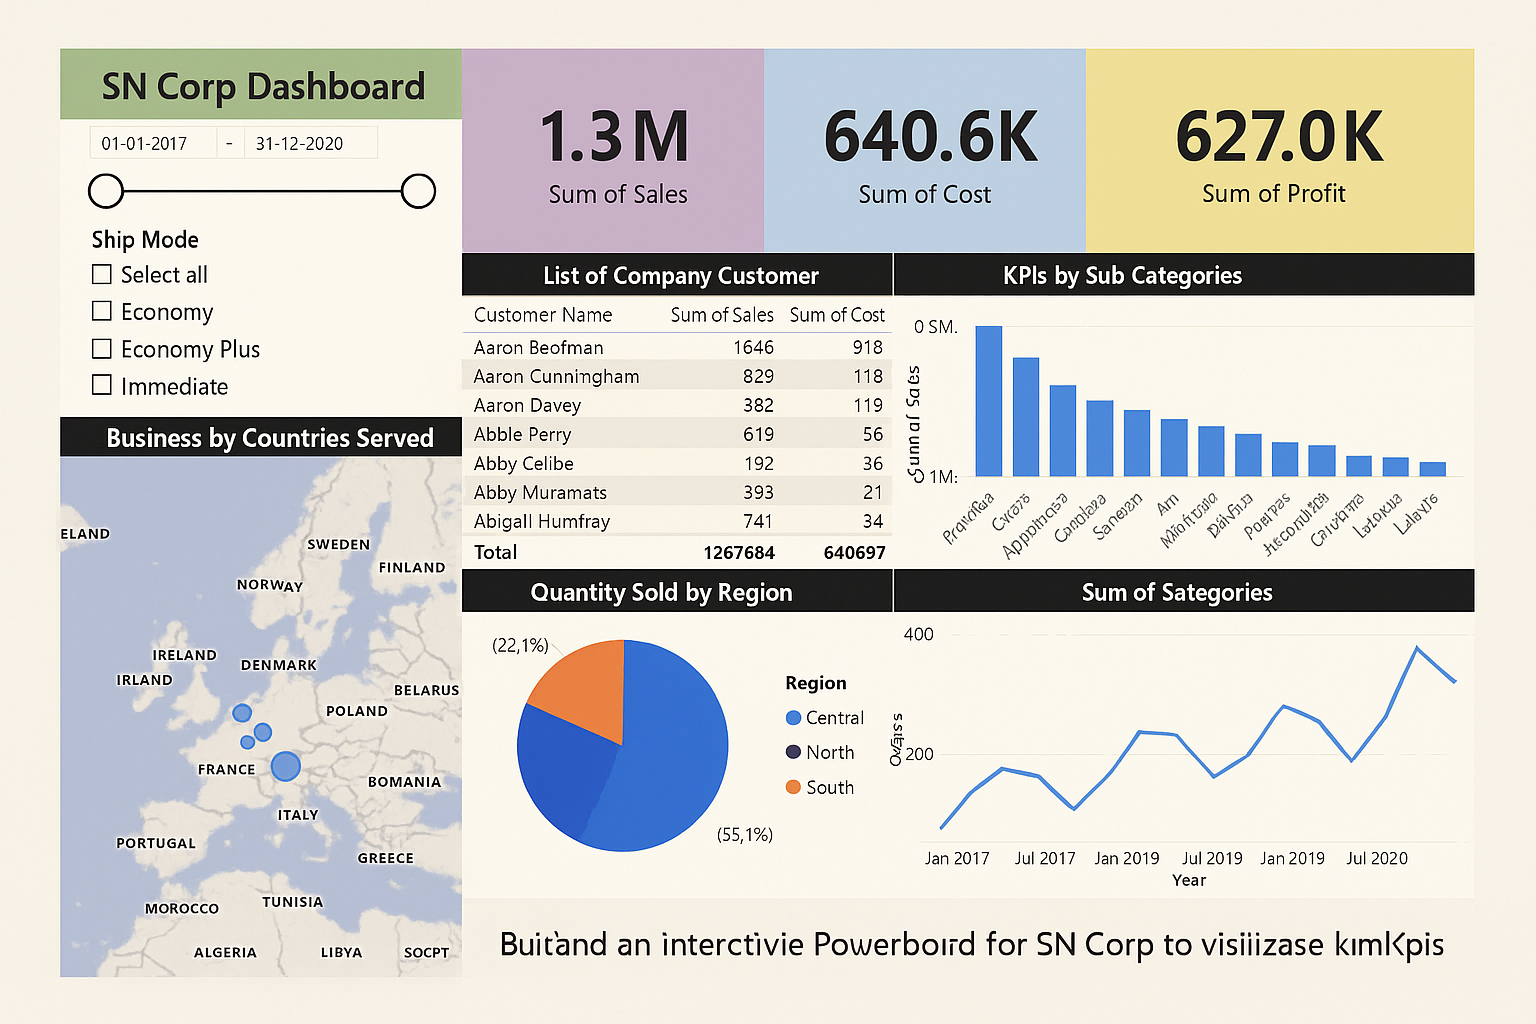

What the dashboard file says about the page in this screenshot:
{"tool":"powerbi","page":{"name":"Page 1","canvas":[1280,720],"ordinal":0},"visuals":[{"type":"card","fields":{"Values":["List of Orders.Sales"]},"box":[309.3,0,330.3,179.7],"z":0},{"type":"card","fields":{"Values":["List of Orders.Cost"]},"box":[639.6,0,315.7,179.7],"z":1000},{"type":"card","fields":{"Values":["List of Orders.Profit"]},"box":[955.3,0,325.5,179.7],"z":2000},{"type":"tableEx","title":"List of Company Customer","fields":{"Values":["List of Orders.Customer Name","List of Orders.Sales","List of Orders.Cost","List of Orders.Profit"]},"box":[309.3,179.7,346.5,273.6],"z":3000},{"type":"clusteredColumnChart","title":"KPIs by Sub Categories","fields":{"Category":["List of Orders.Sub-Category"],"Y":["List of Orders.Sales"]},"box":[655.8,179.7,625,273.6],"z":4000},{"type":"lineChart","title":"Total Orders by every Quarter & Year","fields":{"Y":["List of Orders.Order ID"],"Category":["List of Orders.Order Date.Variation.Date Hierarchy.Year","List of Orders.Order Date.Variation.Date Hierarchy.Quarter"]},"box":[655.8,453.4,625,267.2],"z":5000},{"type":"pieChart","title":"Quantity Sold by Region","fields":{"Y":["List of Orders.Quantity"],"Category":["List of Orders.Region"]},"box":[309.3,453.4,346.5,267.2],"z":6000},{"type":"map","title":"Business by Countries Served","fields":{"Category":["List of Orders.Country"],"Size":["List of Orders.Sales"]},"box":[0,301.2,309.3,419.4],"z":7000},{"type":"slicer","fields":{"Values":["List of Orders.Order Date"]},"box":[0,32.4,299.6,98.8],"z":7001},{"type":"slicer","fields":{"Values":["List of Orders.Ship Mode"]},"box":[0,132.8,309.3,168.4],"z":7002},{"type":"textbox","box":[0,0,309.3,56.7],"z":7003}]}

Visuals, with their boxes on the page's 1280x720 design canvas (x1, y1, x2, y2). These are canvas units, not pixel positions in the 1536x1024 screenshot, which may show the page scaled, cropped or inside an application window:
card - List of Orders.Sales: left=309, top=0, right=640, bottom=180
card - List of Orders.Cost: left=640, top=0, right=955, bottom=180
card - List of Orders.Profit: left=955, top=0, right=1281, bottom=180
"List of Company Customer" tableEx: left=309, top=180, right=656, bottom=453
"KPIs by Sub Categories" clusteredColumnChart: left=656, top=180, right=1281, bottom=453
"Total Orders by every Quarter & Year" lineChart: left=656, top=453, right=1281, bottom=721
"Quantity Sold by Region" pieChart: left=309, top=453, right=656, bottom=721
"Business by Countries Served" map: left=0, top=301, right=309, bottom=721
slicer - List of Orders.Order Date: left=0, top=32, right=300, bottom=131
slicer - List of Orders.Ship Mode: left=0, top=133, right=309, bottom=301
textbox: left=0, top=0, right=309, bottom=57
